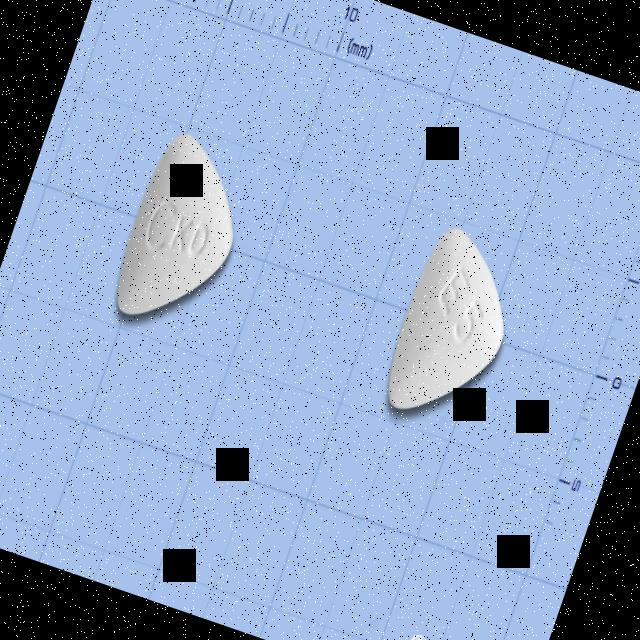Entecabell - 1mg: (102, 124, 262, 340), (376, 220, 532, 433)
